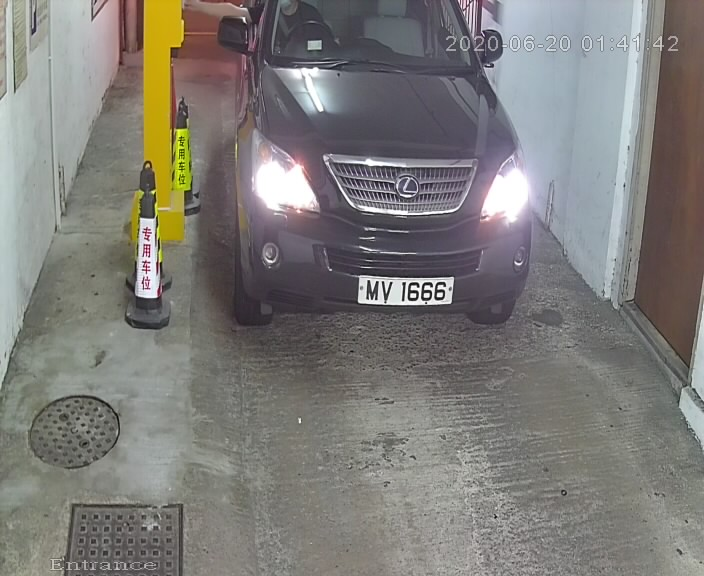privatecar: (226, 3, 548, 352)
